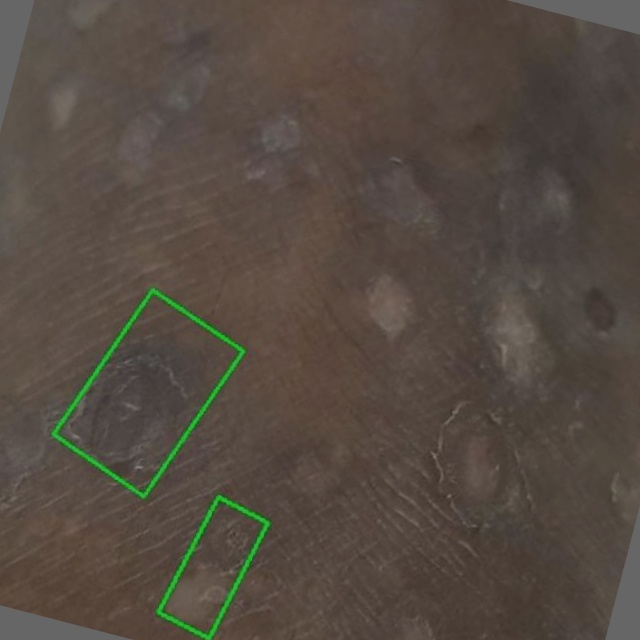Contact Dermatitis: (54, 289, 243, 495), (159, 496, 268, 637)
